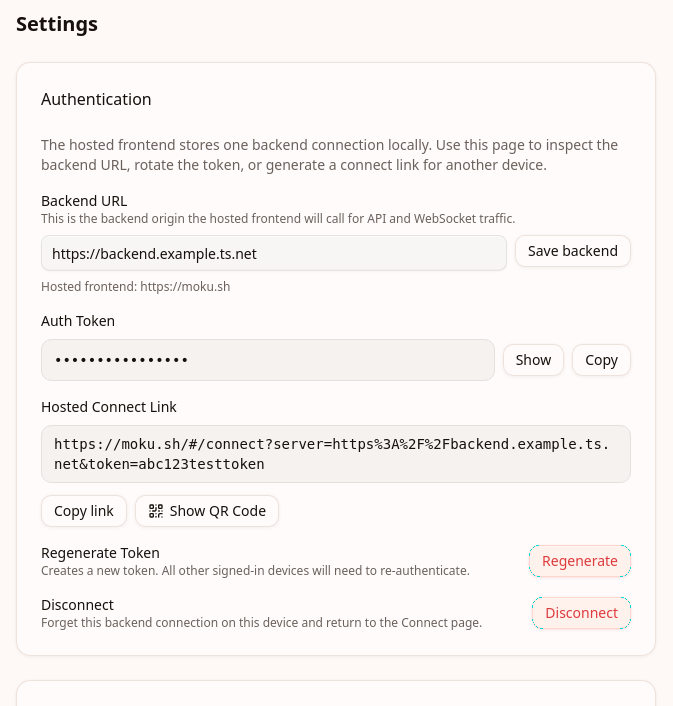
Test case: SettingsPage › regenerates the token after user confirms
Step 1. Click the button "Regenerate" → (580, 561), box left=529, top=545, right=631, bottom=577
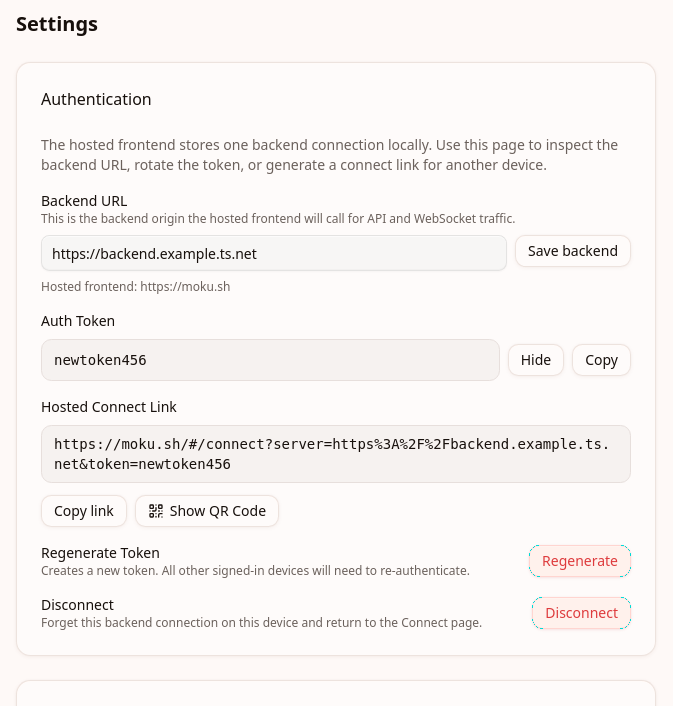
Expected: the text "newtoken456" is shown, left=41, top=339, right=500, bottom=381
